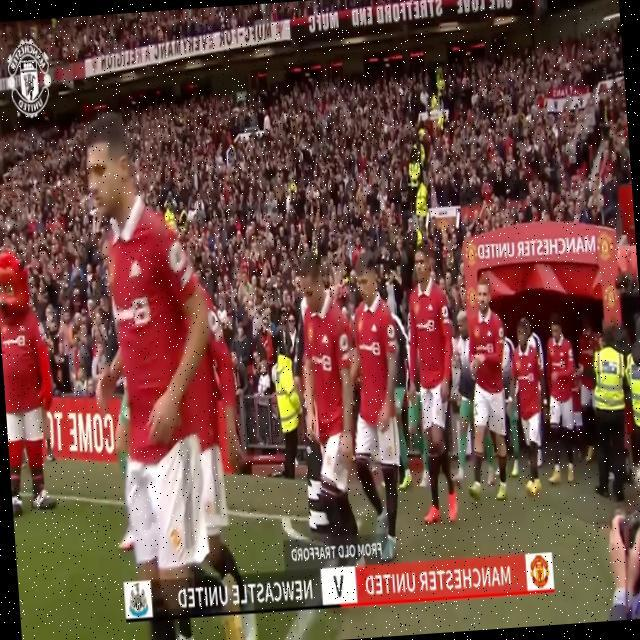Adidas: (126, 255, 143, 278)
TeamViewer: (114, 296, 150, 327), (310, 353, 332, 373), (359, 339, 380, 355), (2, 336, 25, 348), (416, 318, 434, 331)
